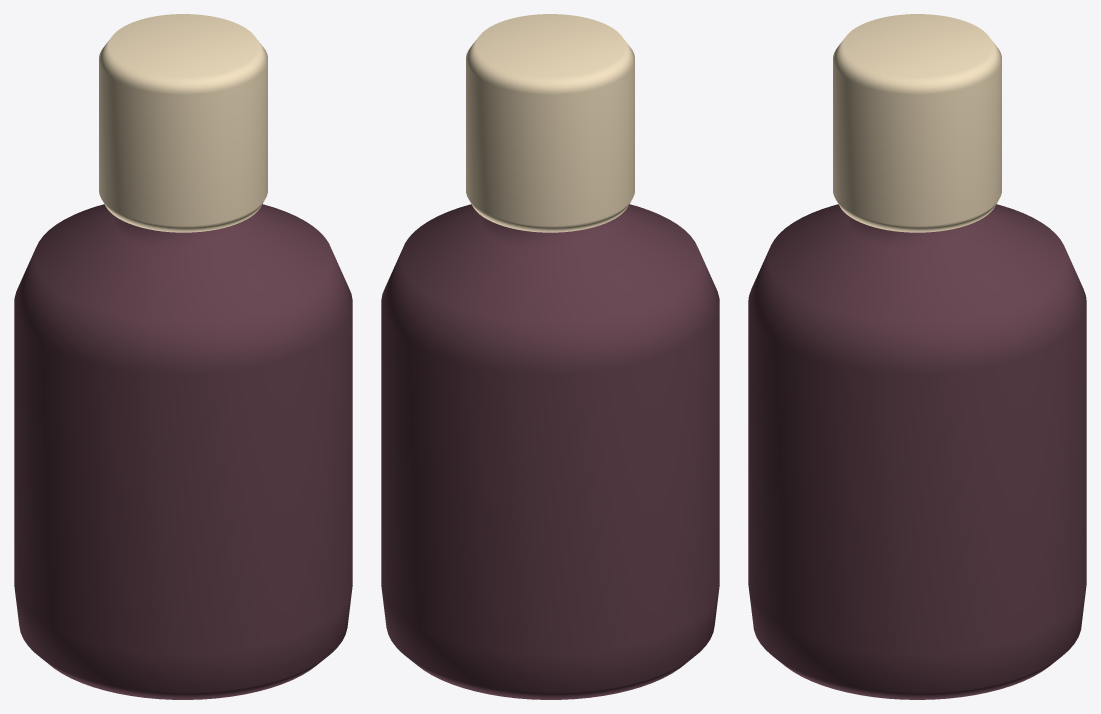
File: rose-cendree.glb
The picture shows the model from 3 angles, left to right: view 1: azimuth 30°, elevation 25°; view 2: azimuth 150°, elevation 25°; view 3: azimuth 270°, elevation 25°; orthographic projection.
Visible parts, largest first — view 1: Bottle; view 2: Bottle; view 3: Bottle.
Part boxes in pixels (left/top/right/bottom): Bottle: left=14, top=14, right=352, bottom=699; Bottle: left=381, top=14, right=719, bottom=699; Bottle: left=748, top=14, right=1086, bottom=699.
Size of the model in its own units: 0.68 by 1.31 by 0.68.
